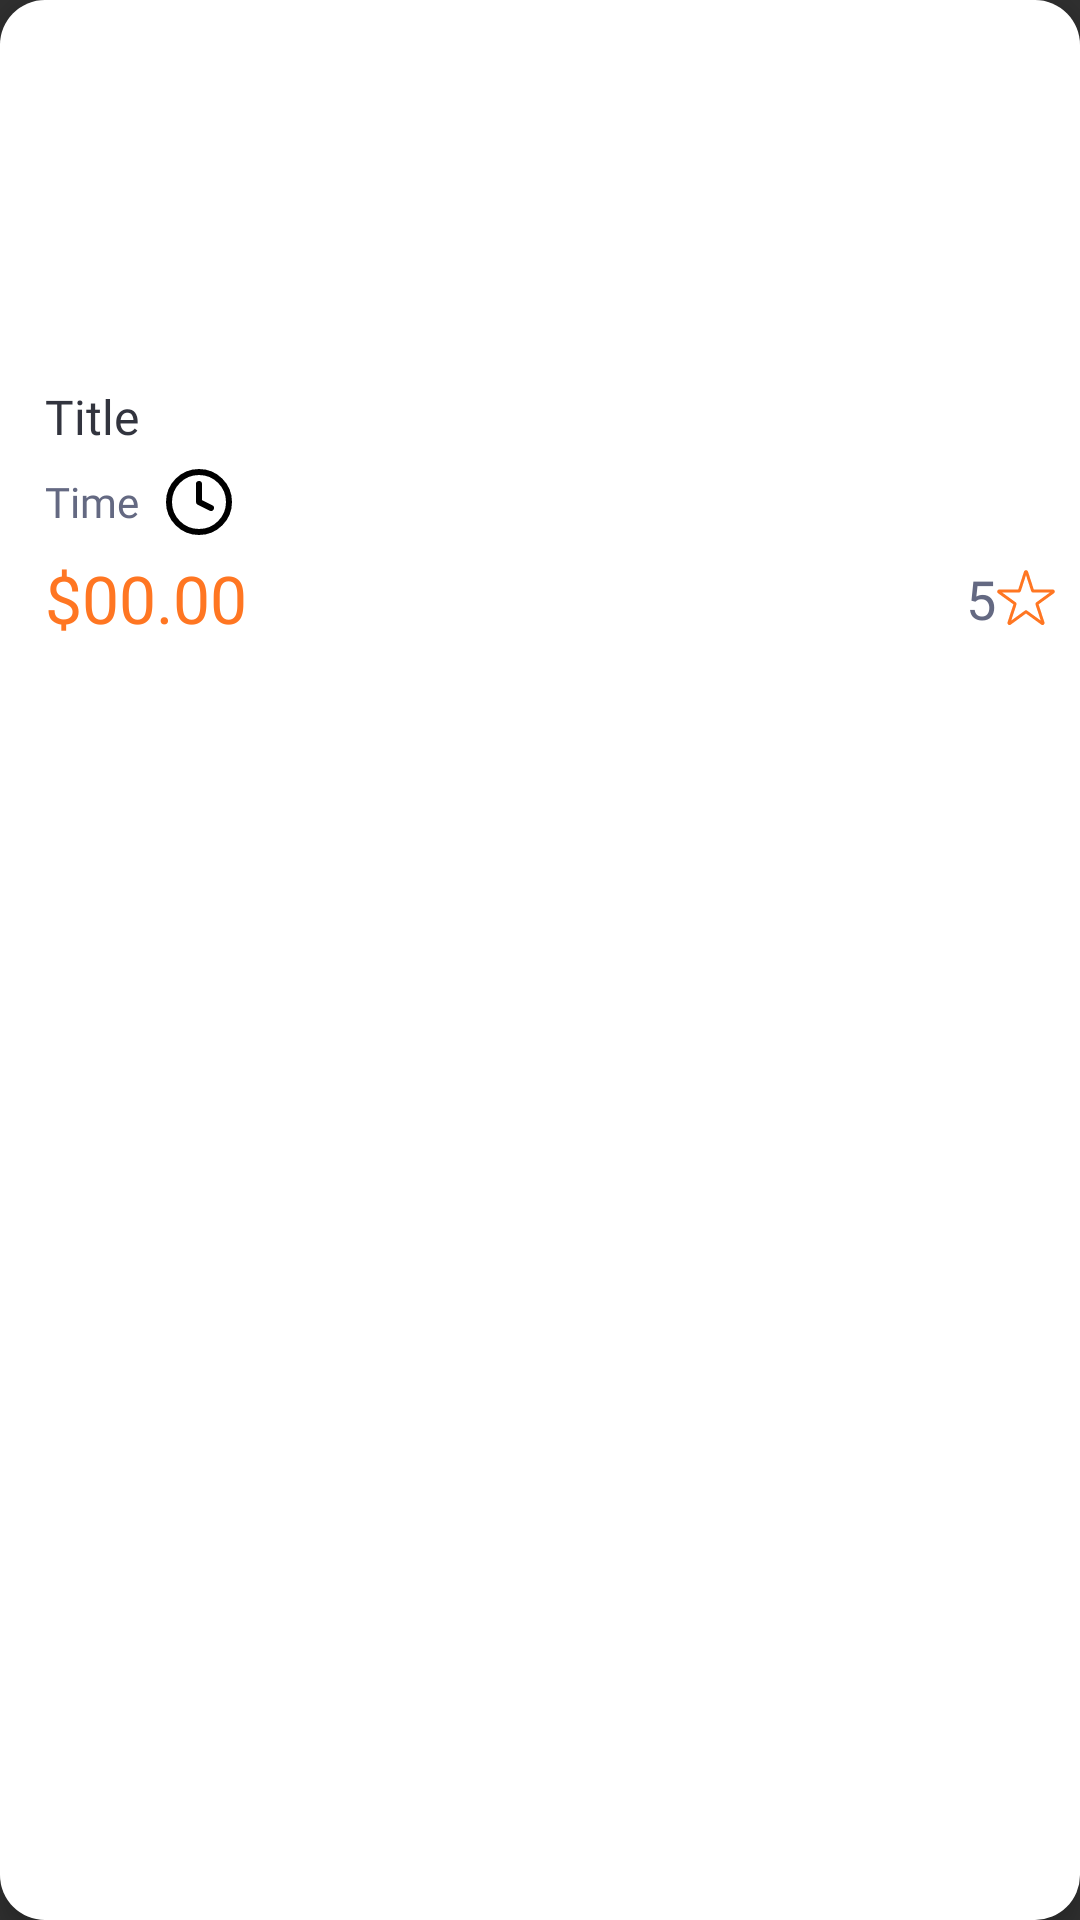

Icons on this 1080w x 1920h Android screen, each with its box as bbox(x1, y1, x2, y2):
shape star stroke: bbox(997, 570, 1055, 625)
